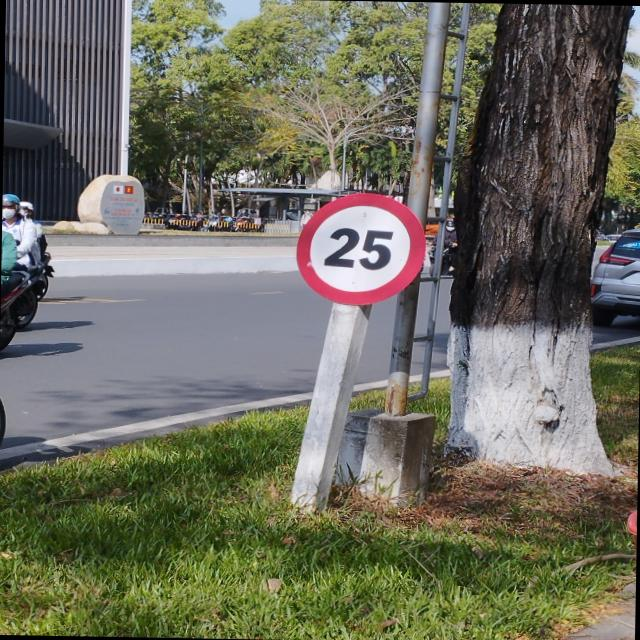Tre_Em: (297, 190, 427, 304)
